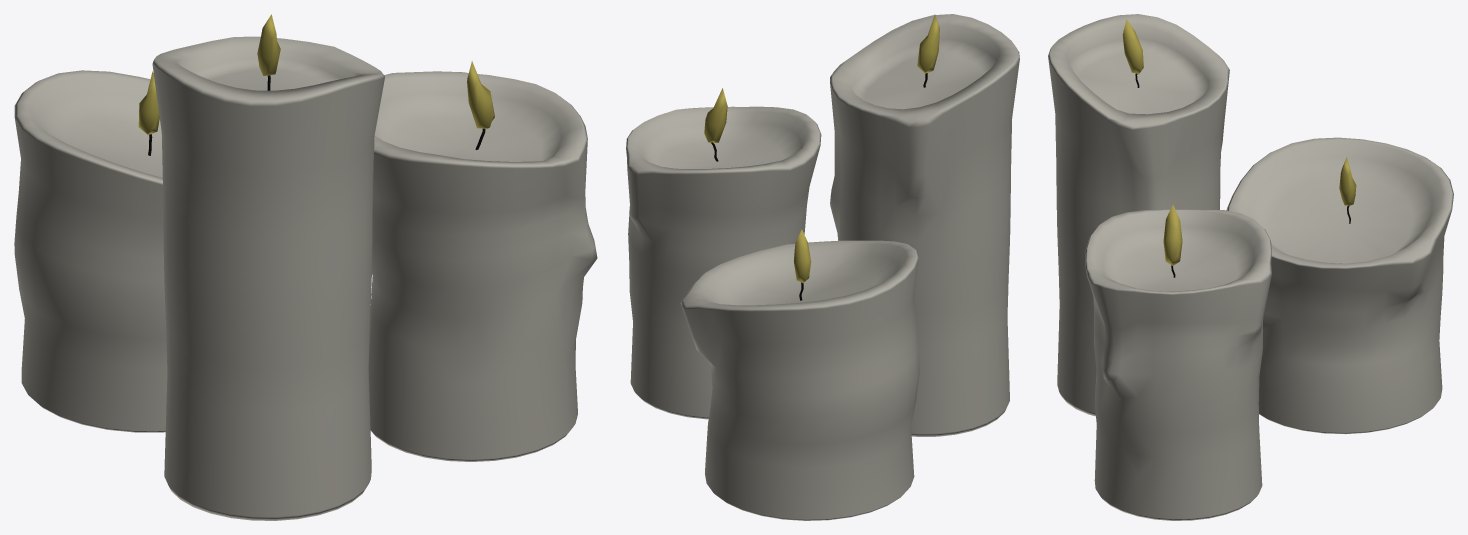
File: candle_v02.fbx
The picture shows the model from 3 angles, left to right: view 1: azimuth 30°, elevation 25°; view 2: azimuth 150°, elevation 25°; view 3: azimuth 270°, elevation 25°; orthographic projection. The views are drawn at different scales.
Visible parts, largest first — view 1: L_candle, M_candle, S_candle, pCube2 (×3); view 2: S_candle, L_candle, M_candle, pCube2 (×3); view 3: S_candle, M_candle, L_candle, pCube2 (×3).
Part boxes in pixels (x1,y1,x2,y2): L_candle: (152,36,384,520); M_candle: (368,71,597,461); S_candle: (14,70,167,432); pCube2 (×3): (138,14,494,135); S_candle: (680,240,919,520); L_candle: (830,14,1019,436); M_candle: (626,106,821,419); pCube2 (×3): (704,14,939,282); S_candle: (1226,137,1453,434); M_candle: (1085,209,1271,520); L_candle: (1048,14,1229,416); pCube2 (×3): (1122,19,1356,265).
Size of the model in its own units: 16.91 by 17.63 by 18.15.
